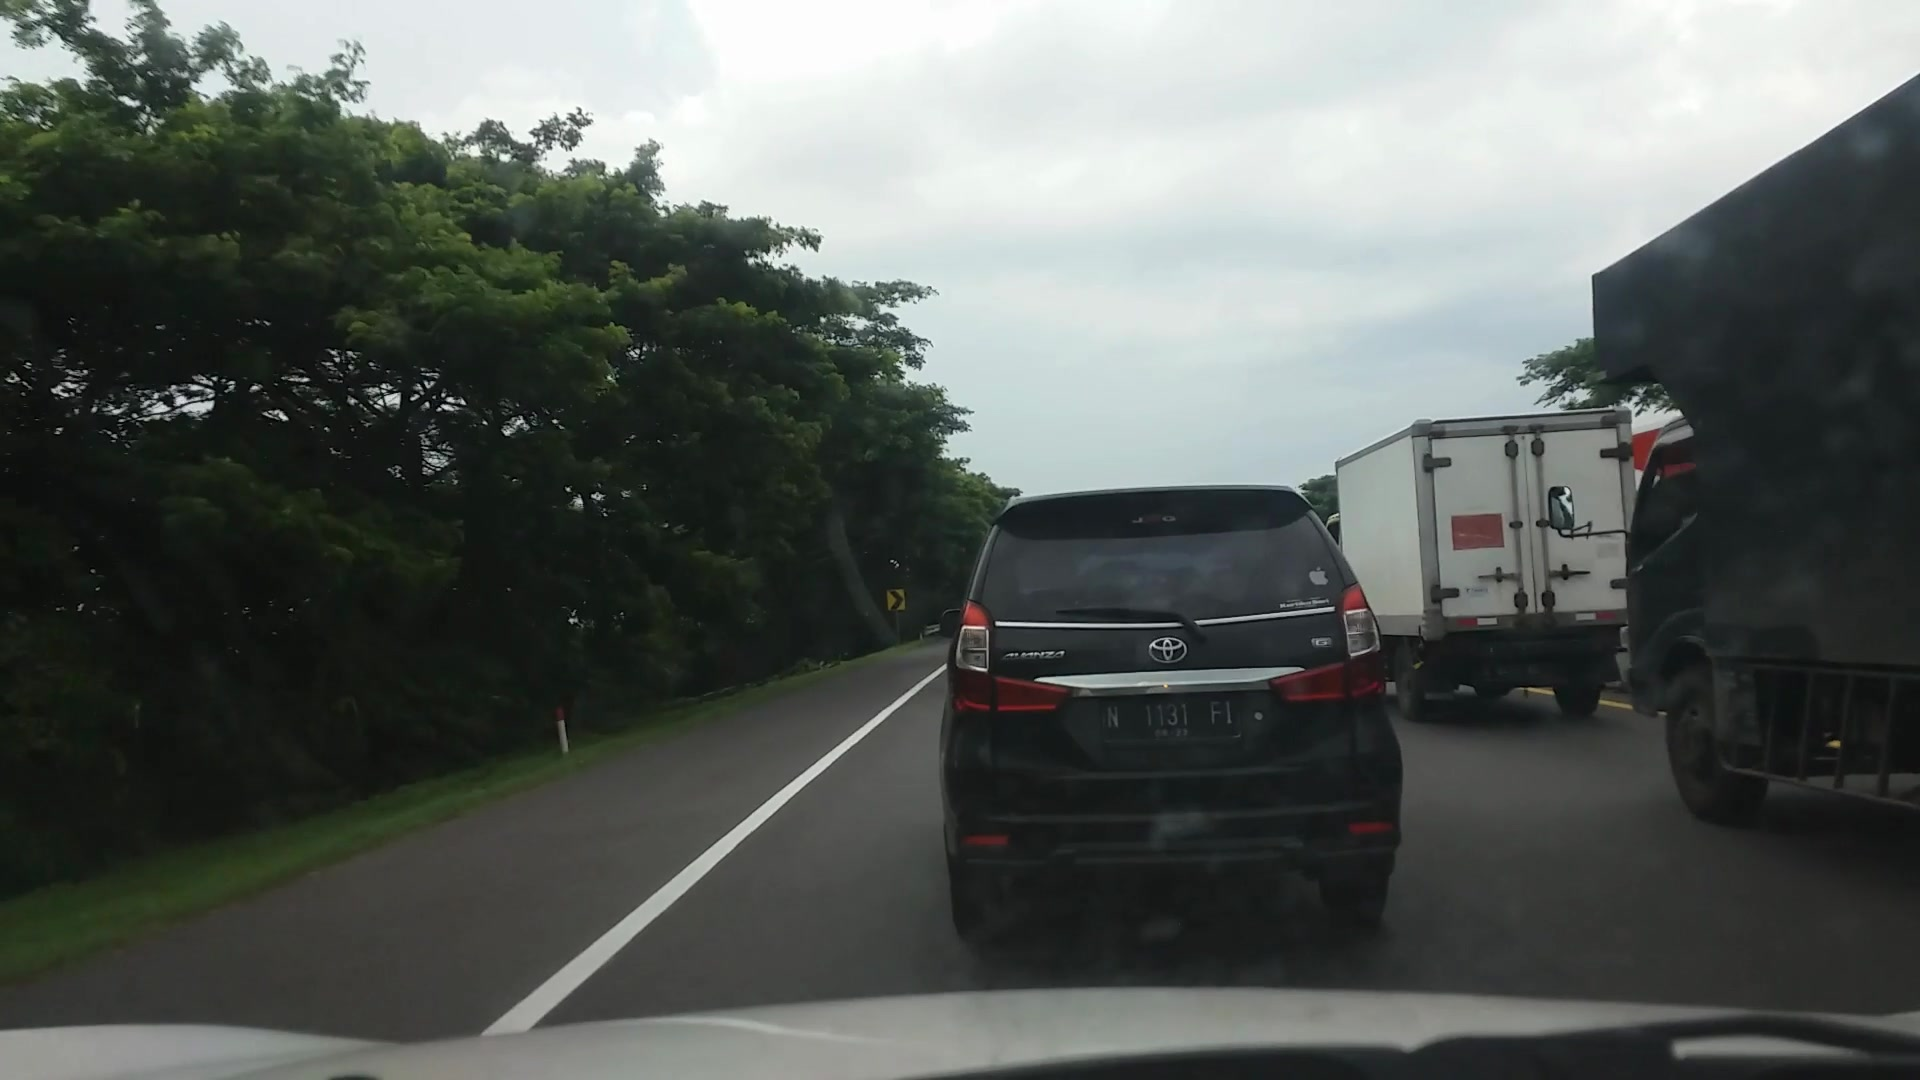plate_positive: (1100, 695, 1240, 741)
